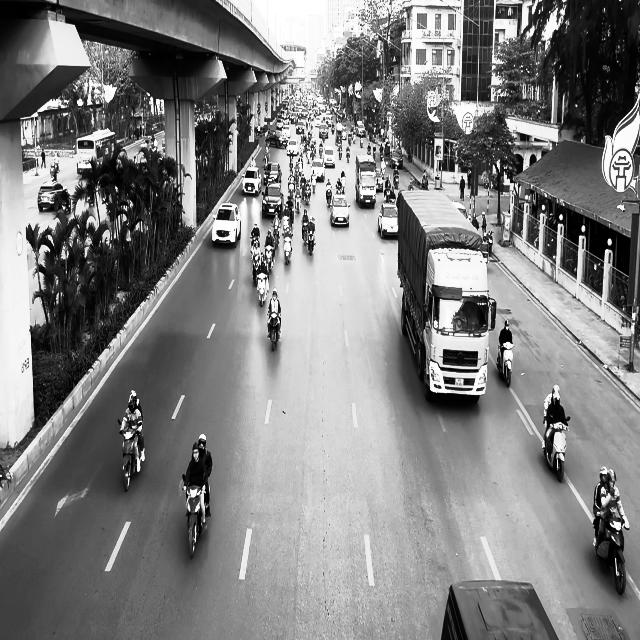bus: (76, 128, 116, 174)
car: (212, 202, 241, 246), (38, 180, 71, 212), (378, 202, 399, 239), (262, 183, 284, 218), (330, 194, 351, 226), (242, 167, 262, 195)
motorbike: (593, 508, 630, 595), (182, 473, 208, 558), (118, 418, 143, 492), (543, 416, 570, 482), (496, 342, 515, 388), (268, 310, 282, 351), (256, 270, 270, 306), (284, 232, 294, 264)
truck: (396, 188, 496, 404)
